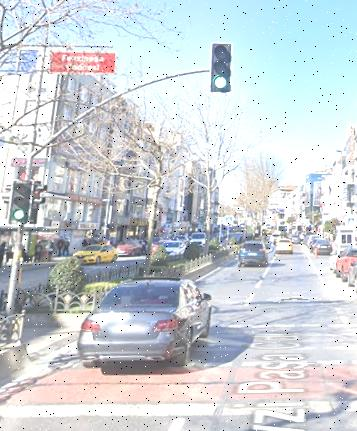greenlight: (211, 42, 230, 91), (12, 181, 28, 222)
